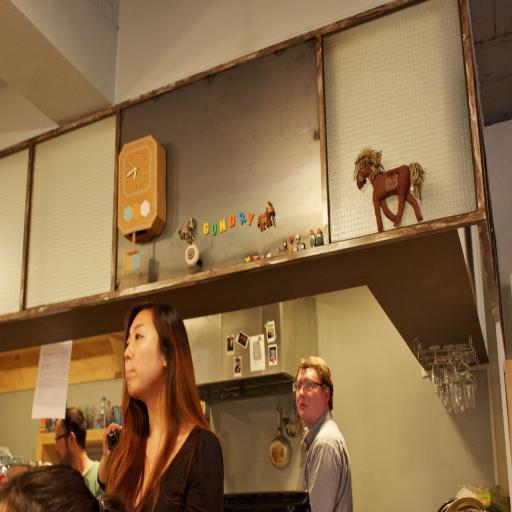horse: (352, 148, 426, 235), (256, 200, 277, 234), (177, 216, 196, 245)
